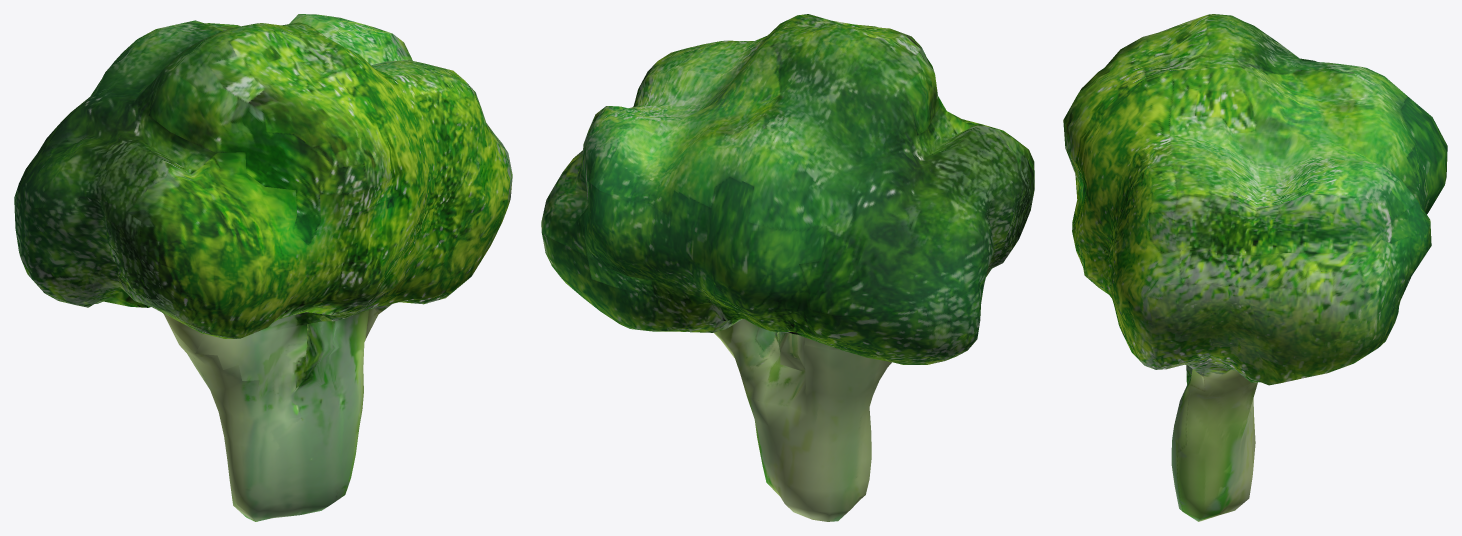
The model's file is brocoli.glb.
3 renders of one model, left to right at view 1: azimuth 30°, elevation 25°; view 2: azimuth 150°, elevation 25°; view 3: azimuth 270°, elevation 25°, orthographic. The views are drawn at different scales.
Visible parts, largest first — view 1: brocoli_output; view 2: brocoli_output; view 3: brocoli_output.
Boxes of the visible parts, box(x1,y1,x2,y2) form: brocoli_output: box(14, 14, 512, 521); brocoli_output: box(541, 14, 1034, 521); brocoli_output: box(1063, 14, 1447, 521).
Bounding box in the file's own units: 0.9823 × 1.1 × 0.8128.
1 material, 1 textured.
